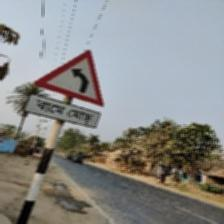Left-Turn: (22, 49, 106, 129)
